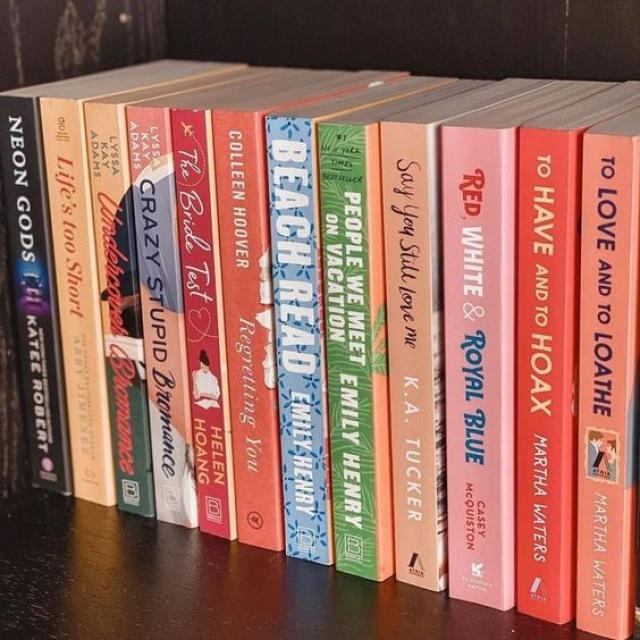book: (443, 127, 514, 609), (319, 123, 393, 580), (515, 129, 581, 623), (212, 110, 284, 551), (576, 132, 637, 639), (381, 123, 446, 590), (41, 99, 115, 506), (128, 108, 197, 527), (0, 96, 70, 495), (266, 116, 328, 564), (85, 103, 152, 516), (170, 109, 234, 538)
